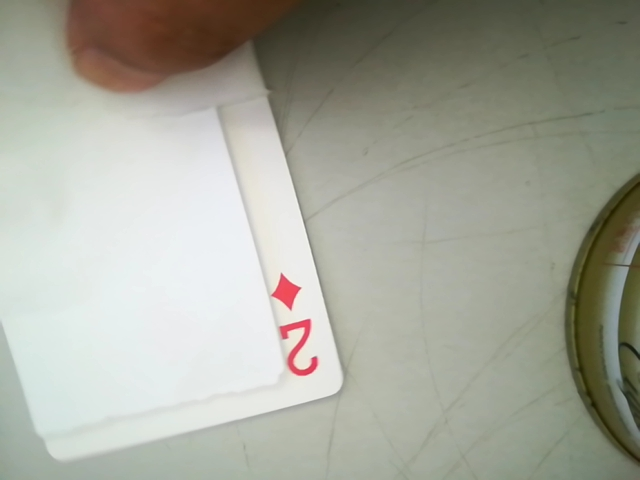fk 2: (259, 267, 331, 390)
